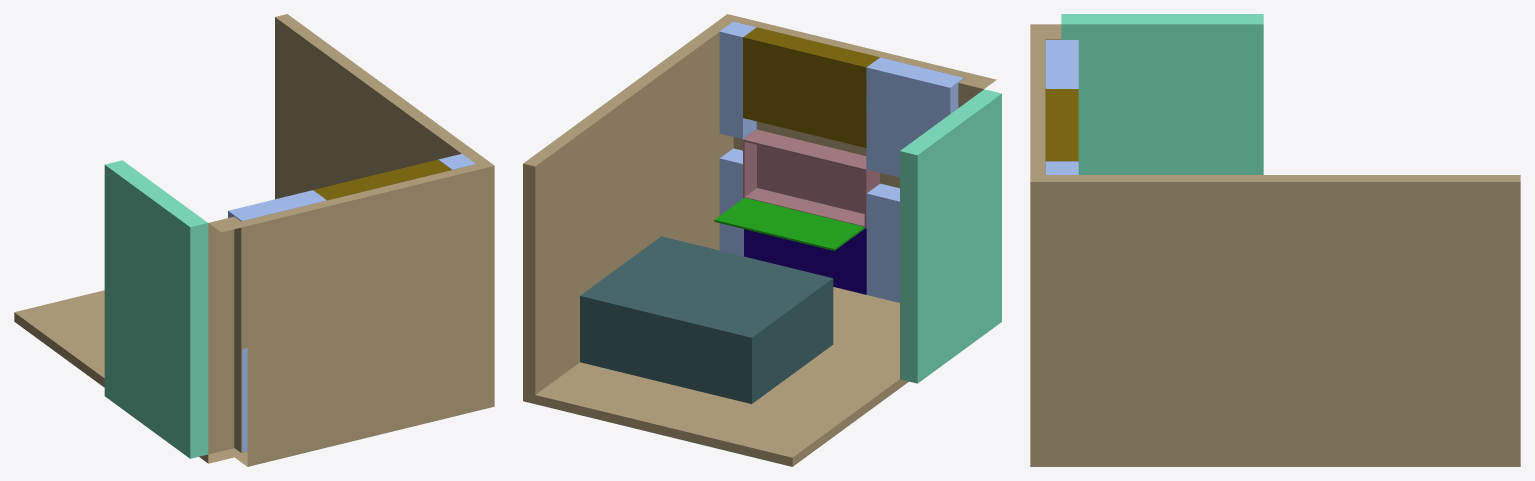
The model's file is buro_02.fbx.
3 views of the same model, side by side, from view 1: azimuth 30°, elevation 25°; view 2: azimuth 150°, elevation 25°; view 3: azimuth 270°, elevation 25° (orthographic). The views are drawn at different scales.
Visible parts, largest first — view 1: Box001, Box002, Box019, Box008, Box003; view 2: Box001, Box006, Box002, Box019, Box009, Box008, Box013, tavle, Box003, Box014, Box015; view 3: Box001, Box002, Box019, Box008.
Part boxes in pixels (<box>): Box001: <box>14,14,494,466</box>; Box002: <box>104,160,208,458</box>; Box019: <box>313,159,451,200</box>; Box008: <box>228,190,326,221</box>; Box003: <box>242,348,247,451</box>; Box001: <box>523,14,996,466</box>; Box006: <box>580,236,833,403</box>; Box002: <box>900,89,1001,383</box>; Box019: <box>743,27,879,147</box>; Box009: <box>743,129,879,228</box>; Box008: <box>866,57,963,177</box>; Box013: <box>743,228,866,294</box>; tavle: <box>714,197,864,250</box>; Box003: <box>866,183,899,302</box>; Box014: <box>719,21,756,139</box>; Box015: <box>719,148,743,256</box>; Box001: <box>1030,24,1520,466</box>; Box002: <box>1061,14,1263,174</box>; Box019: <box>1045,89,1078,161</box>; Box008: <box>1045,40,1078,88</box>.
Bounding box in the file's own units: 128 × 102 × 158.
